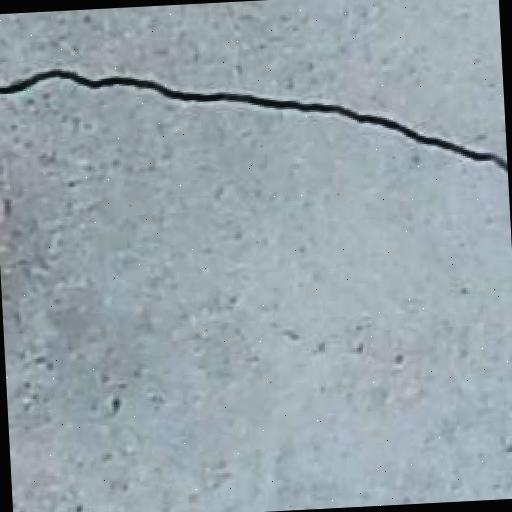spalling: (0, 56, 504, 197)
